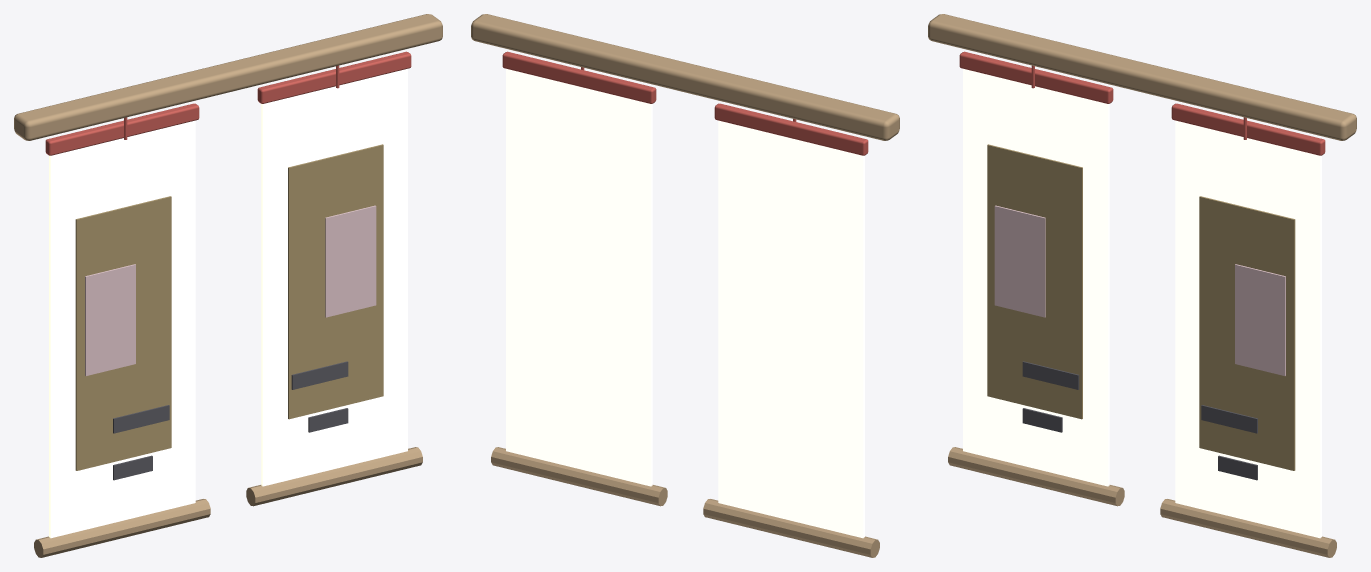
The model's file is hanging-scroll-pair.glb.
The picture shows the model from 3 angles, left to right: view 1: azimuth 30°, elevation 25°; view 2: azimuth 150°, elevation 25°; view 3: azimuth 330°, elevation 25°; orthographic projection.
Parts seen in each view (by area): view 1: hanging-scroll-pair; view 2: hanging-scroll-pair; view 3: hanging-scroll-pair.
Boxes of the visible parts, x1,y1,x2,y2 form: hanging-scroll-pair: [14, 14, 442, 557]; hanging-scroll-pair: [471, 14, 899, 557]; hanging-scroll-pair: [928, 14, 1356, 557].
Bounding box in the file's own units: 1.5 × 1.52 × 0.09.
